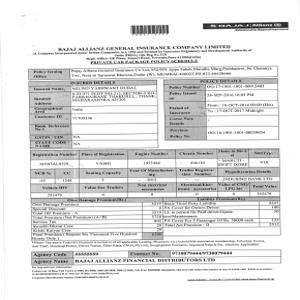image: (200, 20, 290, 30)
table: (30, 149, 279, 196), (32, 197, 282, 237), (29, 81, 158, 148), (164, 79, 280, 139)
text: (29, 42, 255, 66)
